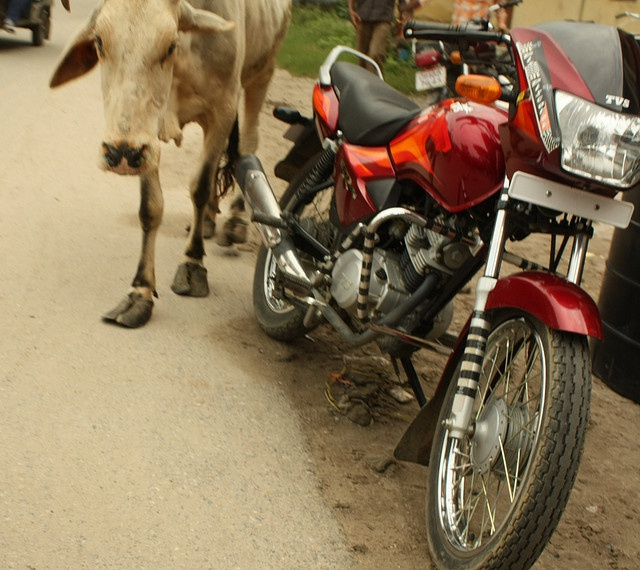non-vehicle: (228, 15, 640, 565), (401, 0, 523, 103)
